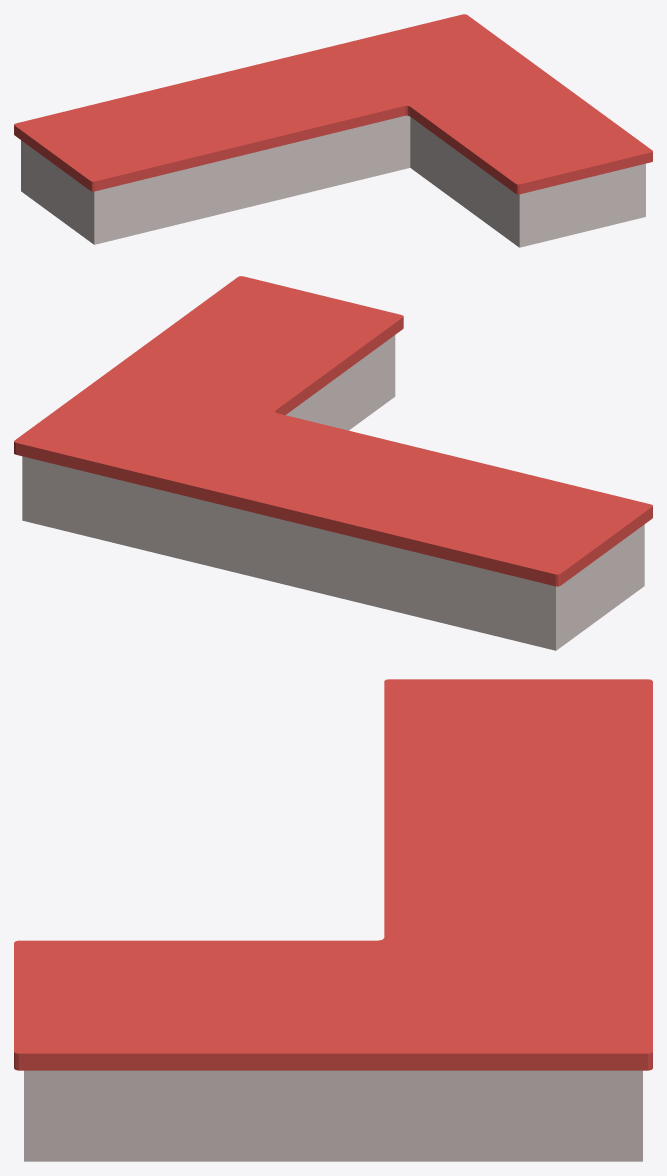
File: Counter.fbx
3 renders of one model, top to bottom at view 1: azimuth 30°, elevation 25°; view 2: azimuth 150°, elevation 25°; view 3: azimuth 270°, elevation 25°, orthographic. The views are drawn at different scales.
Parts seen in each view (by area): view 1: Cube; view 2: Cube; view 3: Cube.
Boxes of the visible parts, x1,y1,x2,y2 form: Cube: (14,14,652,247); Cube: (14,276,652,650); Cube: (14,679,652,1161).
Size of the model in its own units: 358 by 50 by 258.
